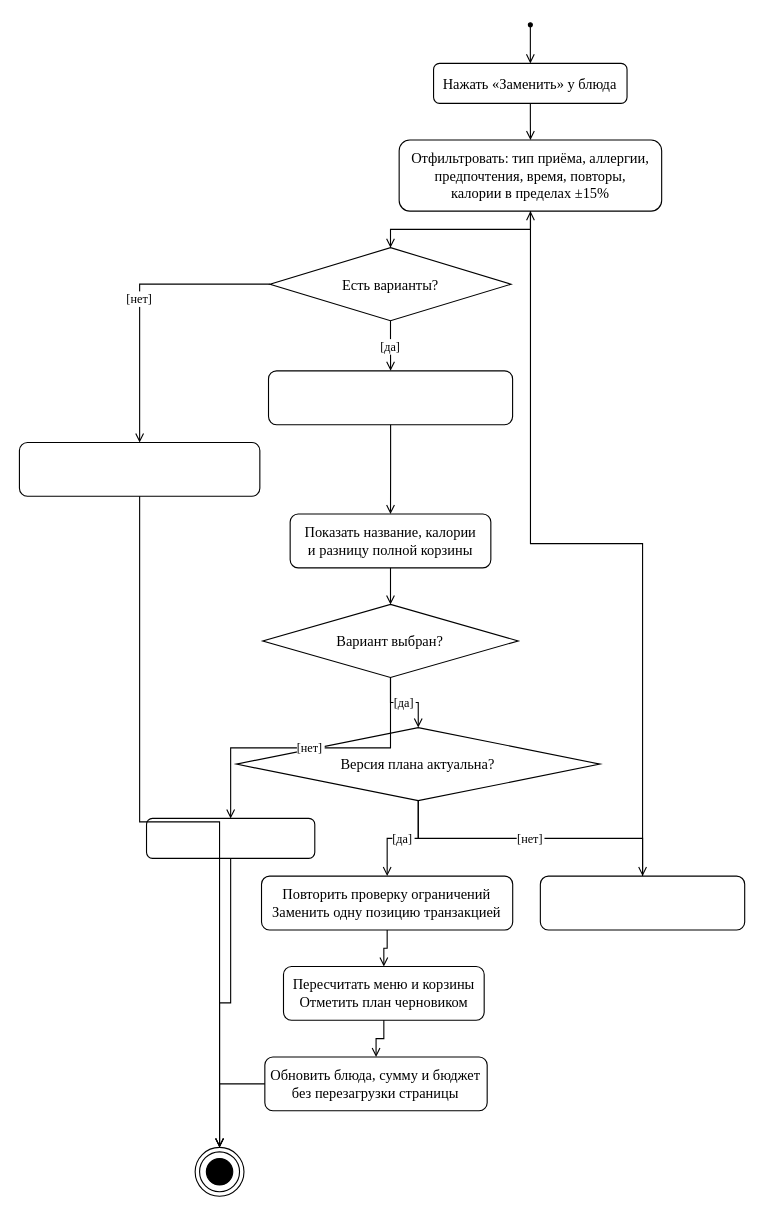
This 765x1217 diagram has some shape labels left out. Each missing label, with the centre of its shape:
"Для каждого варианта пересчитать список, запасы и целые упаковки" goes at [390,397].
"Закрыть без изменений" goes at [230,837].
"Показать 409 Запросить свежий результат" goes at [642,902].
"Показать отсутствие альтернатив План не изменять" goes at [139,468].
